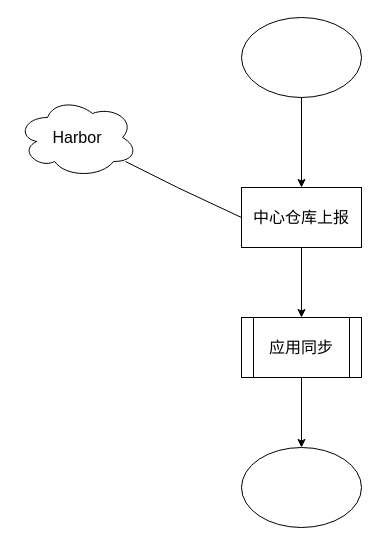
Image size: 379x545. Some labels were removed from this diagram. Each missing label, with the centre of its shape:
"开始" goes at point (301, 57).
"结束" goes at point (301, 487).
